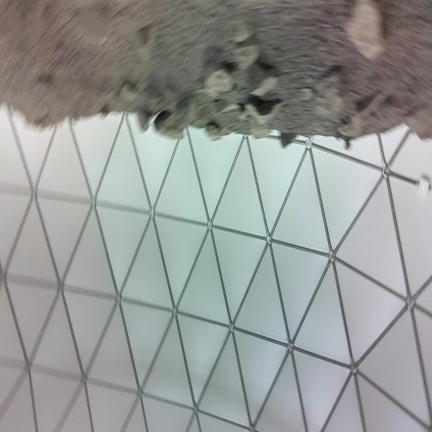Rock: (346, 0, 384, 59), (247, 60, 279, 97), (246, 96, 281, 125), (205, 66, 234, 97), (356, 92, 386, 119), (155, 111, 183, 139), (235, 39, 259, 69), (338, 116, 362, 140), (234, 20, 252, 43), (119, 82, 137, 102), (137, 109, 152, 131), (137, 24, 152, 45), (280, 133, 296, 147), (206, 123, 221, 136), (221, 104, 240, 112)
